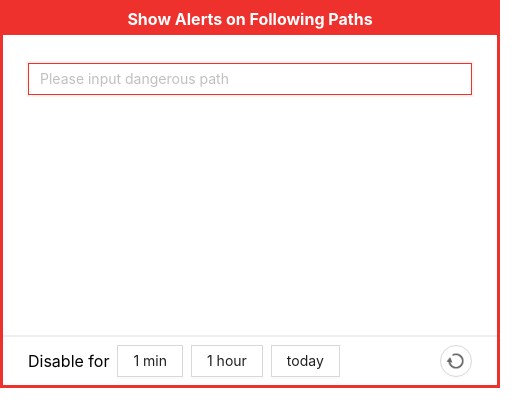
Scenario: Modify Path List › should save valid string to path list and add an empty line when press enter
Type " test " into the field with placeholder "Please input dangerous path". click: (250,79)
box: 28,63 -> 472,95
Then press Enter
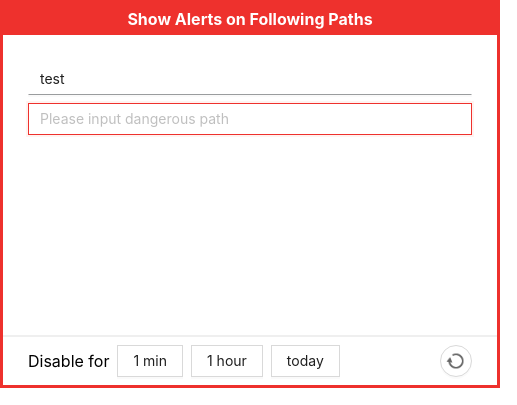
Now the number of elements with class "InputContainer" is 2, box 28,63 -> 472,95; 28,103 -> 472,135
